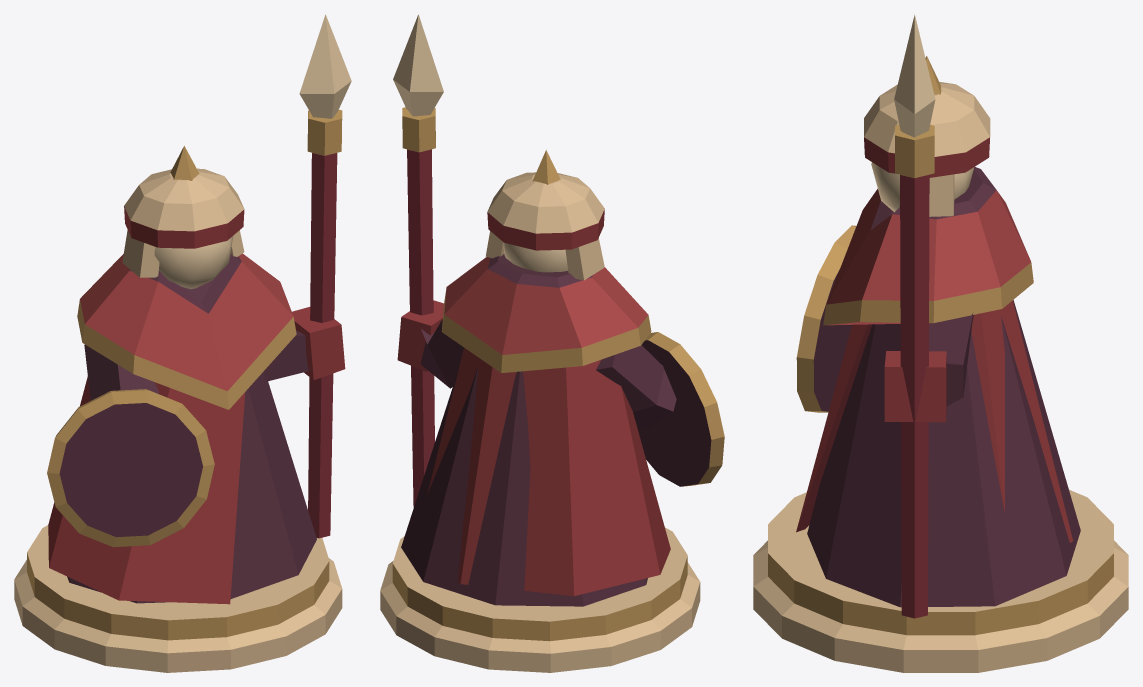
Rendered from spearman.glb.
The picture shows the model from 3 angles, left to right: view 1: azimuth 30°, elevation 25°; view 2: azimuth 150°, elevation 25°; view 3: azimuth 270°, elevation 25°; orthographic projection. The views are drawn at different scales.
Visible parts, largest first — view 1: Base | maple and gold.001, Mantle | broad shoulders and V band, Shield | round face and gold rim, Cloak | long diagonal overlap.001, Tunic | long folds.001, Spear | staff and socket, Helmet | dome and painted band, Spear | leaf point, Head | blank ivory.001, Spear hand | square grip, Shield arm, Spear arm | bent sleeve (+2 smaller); view 2: Cloak | long diagonal overlap.001, Base | maple and gold.001, Tunic | long folds.001, Mantle | broad shoulders and V band, Shield | round face and gold rim, Spear | staff and socket, Helmet | dome and painted band, Shield arm, Spear | leaf point, Spear hand | square grip, Spear arm | bent sleeve, Head | blank ivory.001 (+2 smaller); view 3: Tunic | long folds.001, Base | maple and gold.001, Mantle | broad shoulders and V band, Spear | staff and socket, Cloak | long diagonal overlap.001, Helmet | dome and painted band, Shield | round face and gold rim, Spear hand | square grip, Spear | leaf point, Spear arm | bent sleeve, Head | blank ivory.001, Helmet | right cheek guard.
Boxes of the visible parts, x1=… form: Base | maple and gold.001: x1=14, y1=525, x2=342, y2=672; Mantle | broad shoulders and V band: x1=77, y1=253, x2=296, y2=409; Shield | round face and gold rim: x1=47, y1=389, x2=214, y2=547; Cloak | long diagonal overlap.001: x1=48, y1=376, x2=245, y2=604; Tunic | long folds.001: x1=67, y1=372, x2=316, y2=603; Spear | staff and socket: x1=307, y1=109, x2=342, y2=538; Helmet | dome and painted band: x1=124, y1=168, x2=244, y2=248; Spear | leaf point: x1=299, y1=14, x2=351, y2=118; Head | blank ivory.001: x1=154, y1=236, x2=233, y2=289; Spear hand | square grip: x1=292, y1=307, x2=345, y2=380; Shield arm: x1=84, y1=344, x2=158, y2=400; Spear arm | bent sleeve: x1=263, y1=330, x2=308, y2=381; Cloak | long diagonal overlap.001: x1=427, y1=347, x2=670, y2=596; Base | maple and gold.001: x1=380, y1=527, x2=700, y2=672; Tunic | long folds.001: x1=401, y1=365, x2=647, y2=606; Mantle | broad shoulders and V band: x1=441, y1=254, x2=651, y2=372; Shield | round face and gold rim: x1=636, y1=332, x2=724, y2=486; Spear | staff and socket: x1=402, y1=107, x2=435, y2=507; Helmet | dome and painted band: x1=487, y1=172, x2=604, y2=250; Shield arm: x1=596, y1=345, x2=676, y2=428; Spear | leaf point: x1=393, y1=14, x2=443, y2=116; Spear hand | square grip: x1=397, y1=300, x2=443, y2=371; Spear arm | bent sleeve: x1=420, y1=318, x2=463, y2=388; Head | blank ivory.001: x1=503, y1=242, x2=567, y2=272; Tunic | long folds.001: x1=807, y1=300, x2=1080, y2=607; Base | maple and gold.001: x1=753, y1=489, x2=1128, y2=672; Mantle | broad shoulders and V band: x1=823, y1=167, x2=1033, y2=325; Spear | staff and socket: x1=895, y1=125, x2=934, y2=618; Cloak | long diagonal overlap.001: x1=796, y1=300, x2=1072, y2=542; Helmet | dome and painted band: x1=864, y1=82, x2=990, y2=177; Shield | round face and gold rim: x1=796, y1=225, x2=856, y2=412; Spear hand | square grip: x1=884, y1=351, x2=946, y2=422; Spear | leaf point: x1=894, y1=14, x2=935, y2=137; Spear arm | bent sleeve: x1=929, y1=313, x2=973, y2=406; Head | blank ivory.001: x1=871, y1=162, x2=974, y2=212; Helmet | right cheek guard: x1=899, y1=174, x2=954, y2=216.
Size of the model in its own units: 1.8 by 3.01 by 1.56.
